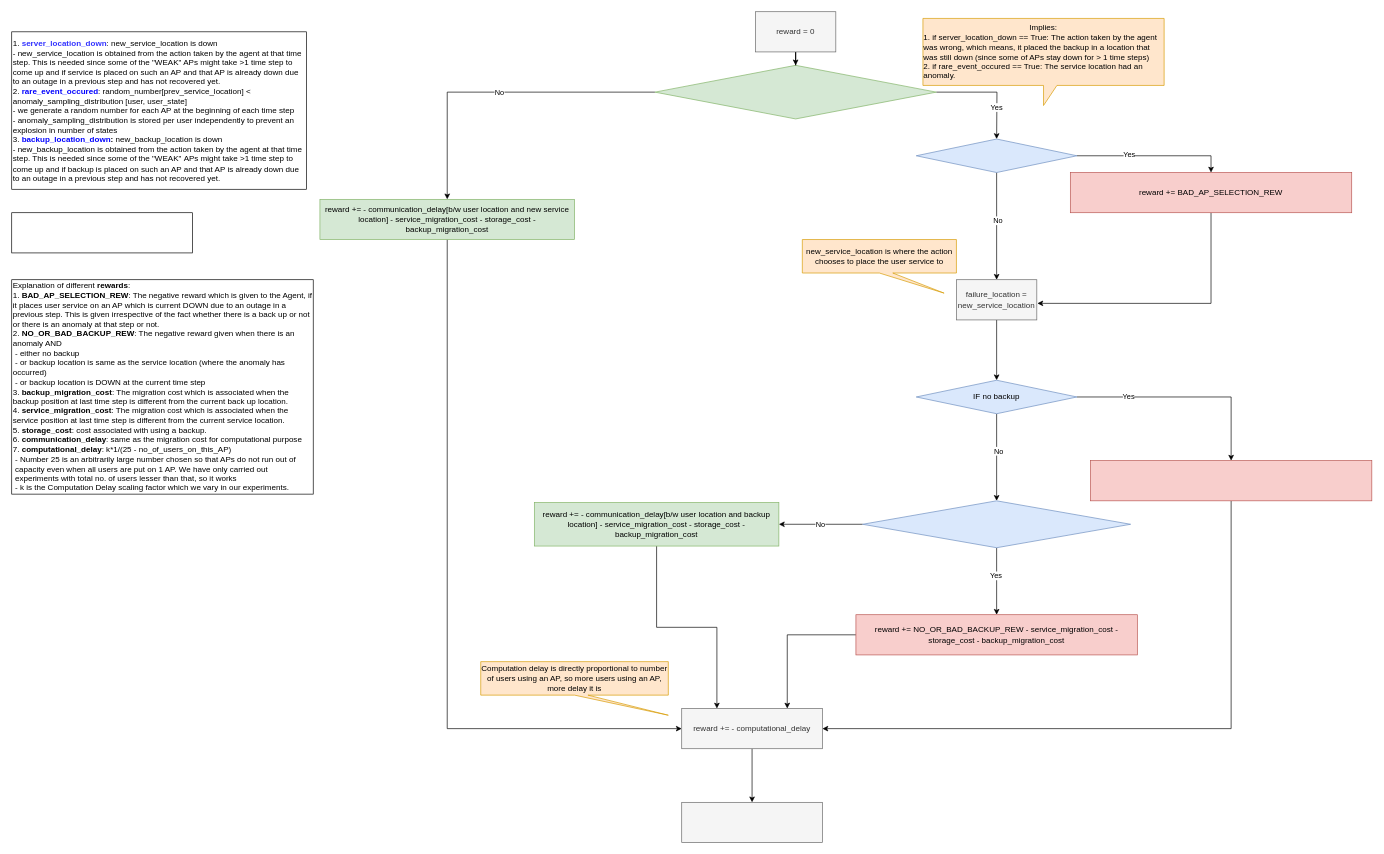
Image size: 1384x854. Some labels were removed from this diagram. The box of each missing label's shape, as (x1, y1, x2, y2) in pixels:
BAD_AP_SELECTION_REW = -200 OR -50 NO_OR_BAD_BACKUP_REW = -8000: (11, 212, 193, 253)
IF backup == failure_location OR backup_location_down: (862, 500, 1131, 548)
IF server_location_down: (916, 138, 1077, 173)
IF server_location_down OR rare_event_occured: (654, 65, 936, 119)
return reward: (681, 802, 822, 843)
reward += NO_OR_BAD_BACKUP_REW - service_migration_cost: (1090, 460, 1372, 501)
